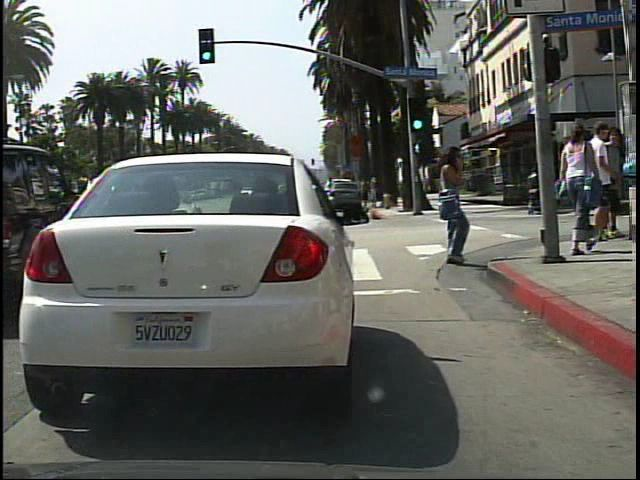person: (419, 140, 479, 269), (555, 121, 607, 262)
